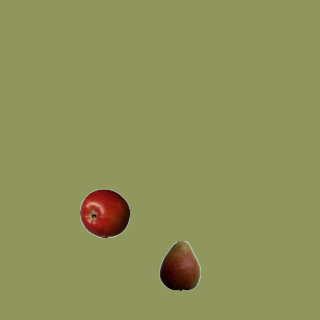Apple Braeburn: (79, 188, 129, 238)
Pear Forelle: (154, 240, 204, 290)
